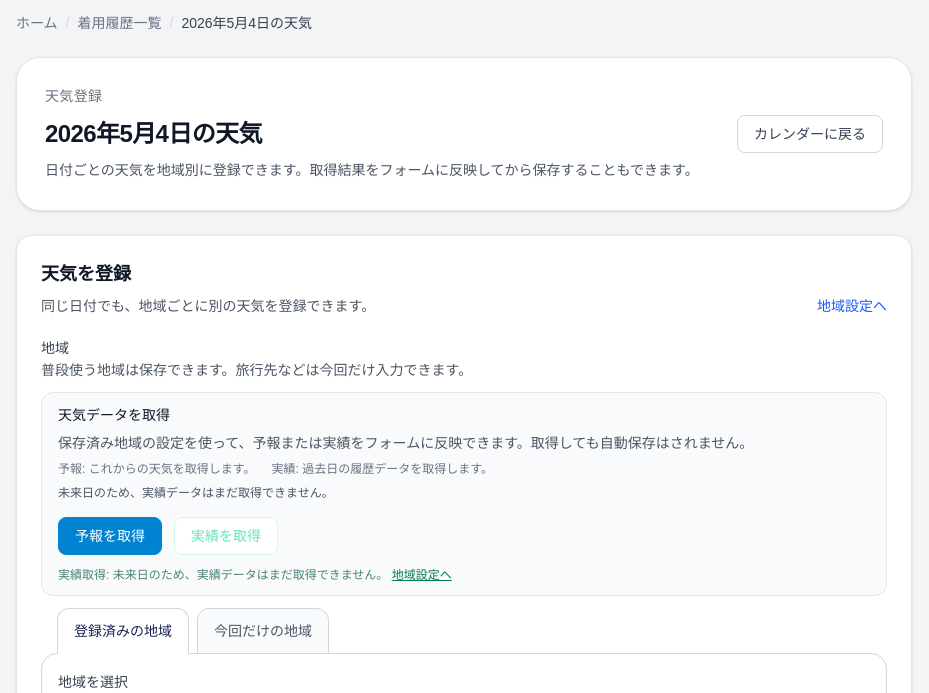
Test: WearLogWeatherPage › 今回だけの地域では予報取得を使えない
Click the tab "今回だけの地域" at (263, 631), box [197, 608, 329, 654]
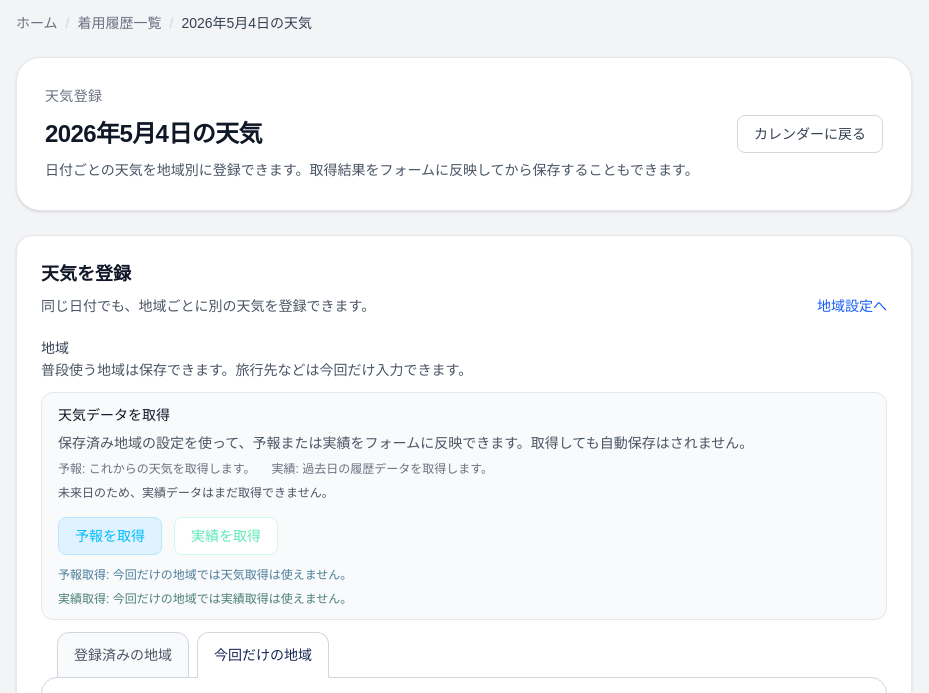
Expected: the button "予報を取得" is disabled, [58, 517, 162, 555]
Expected: the text "今回だけの地域では天気取得は使えません。" is shown, [113, 568, 352, 582]
